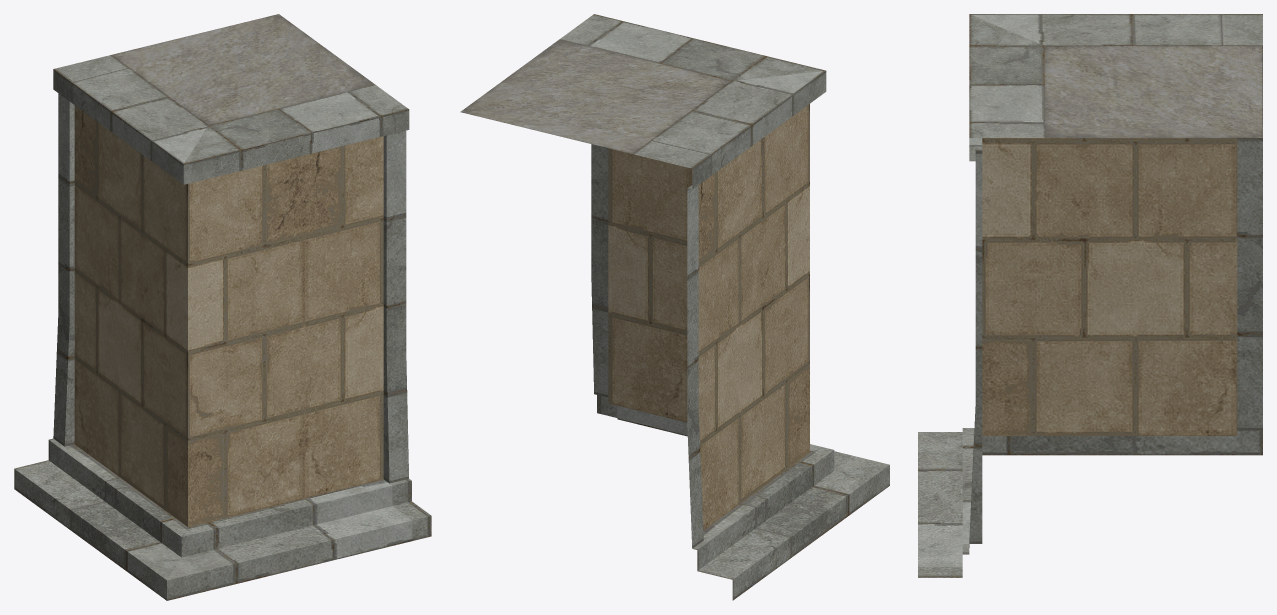
The model's file is block_sqr_cnr_rpt_1x1.fbx.
The picture shows the model from 3 angles, left to right: view 1: azimuth 30°, elevation 25°; view 2: azimuth 150°, elevation 25°; view 3: azimuth 270°, elevation 25°; orthographic projection. The views are drawn at different scales.
Parts seen in each view (by area): view 1: block_sqr_cnr_rpt_1x1; view 2: block_sqr_cnr_rpt_1x1; view 3: block_sqr_cnr_rpt_1x1.
Part boxes in pixels (x1=…): block_sqr_cnr_rpt_1x1: x1=14, y1=14, x2=431, y2=600; block_sqr_cnr_rpt_1x1: x1=460, y1=14, x2=889, y2=600; block_sqr_cnr_rpt_1x1: x1=918, y1=14, x2=1262, y2=577.
Bounding box in the file's own units: 135 × 200 × 135.
